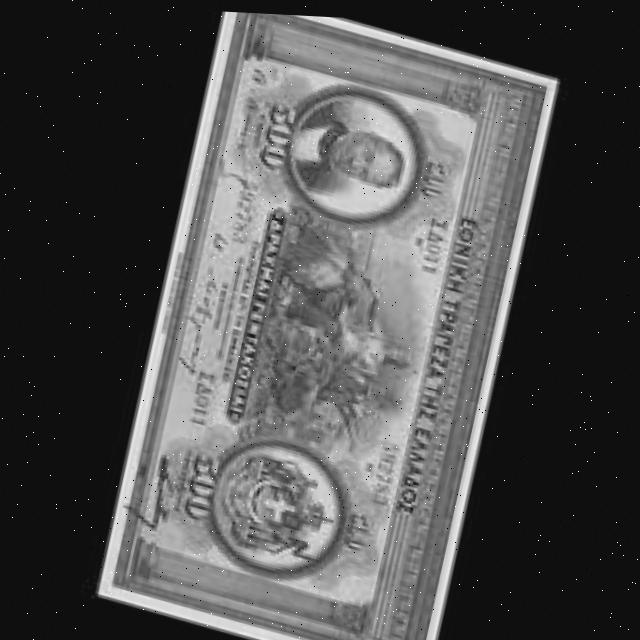banknote: (89, 4, 567, 640), (171, 431, 233, 534), (248, 87, 305, 185)
